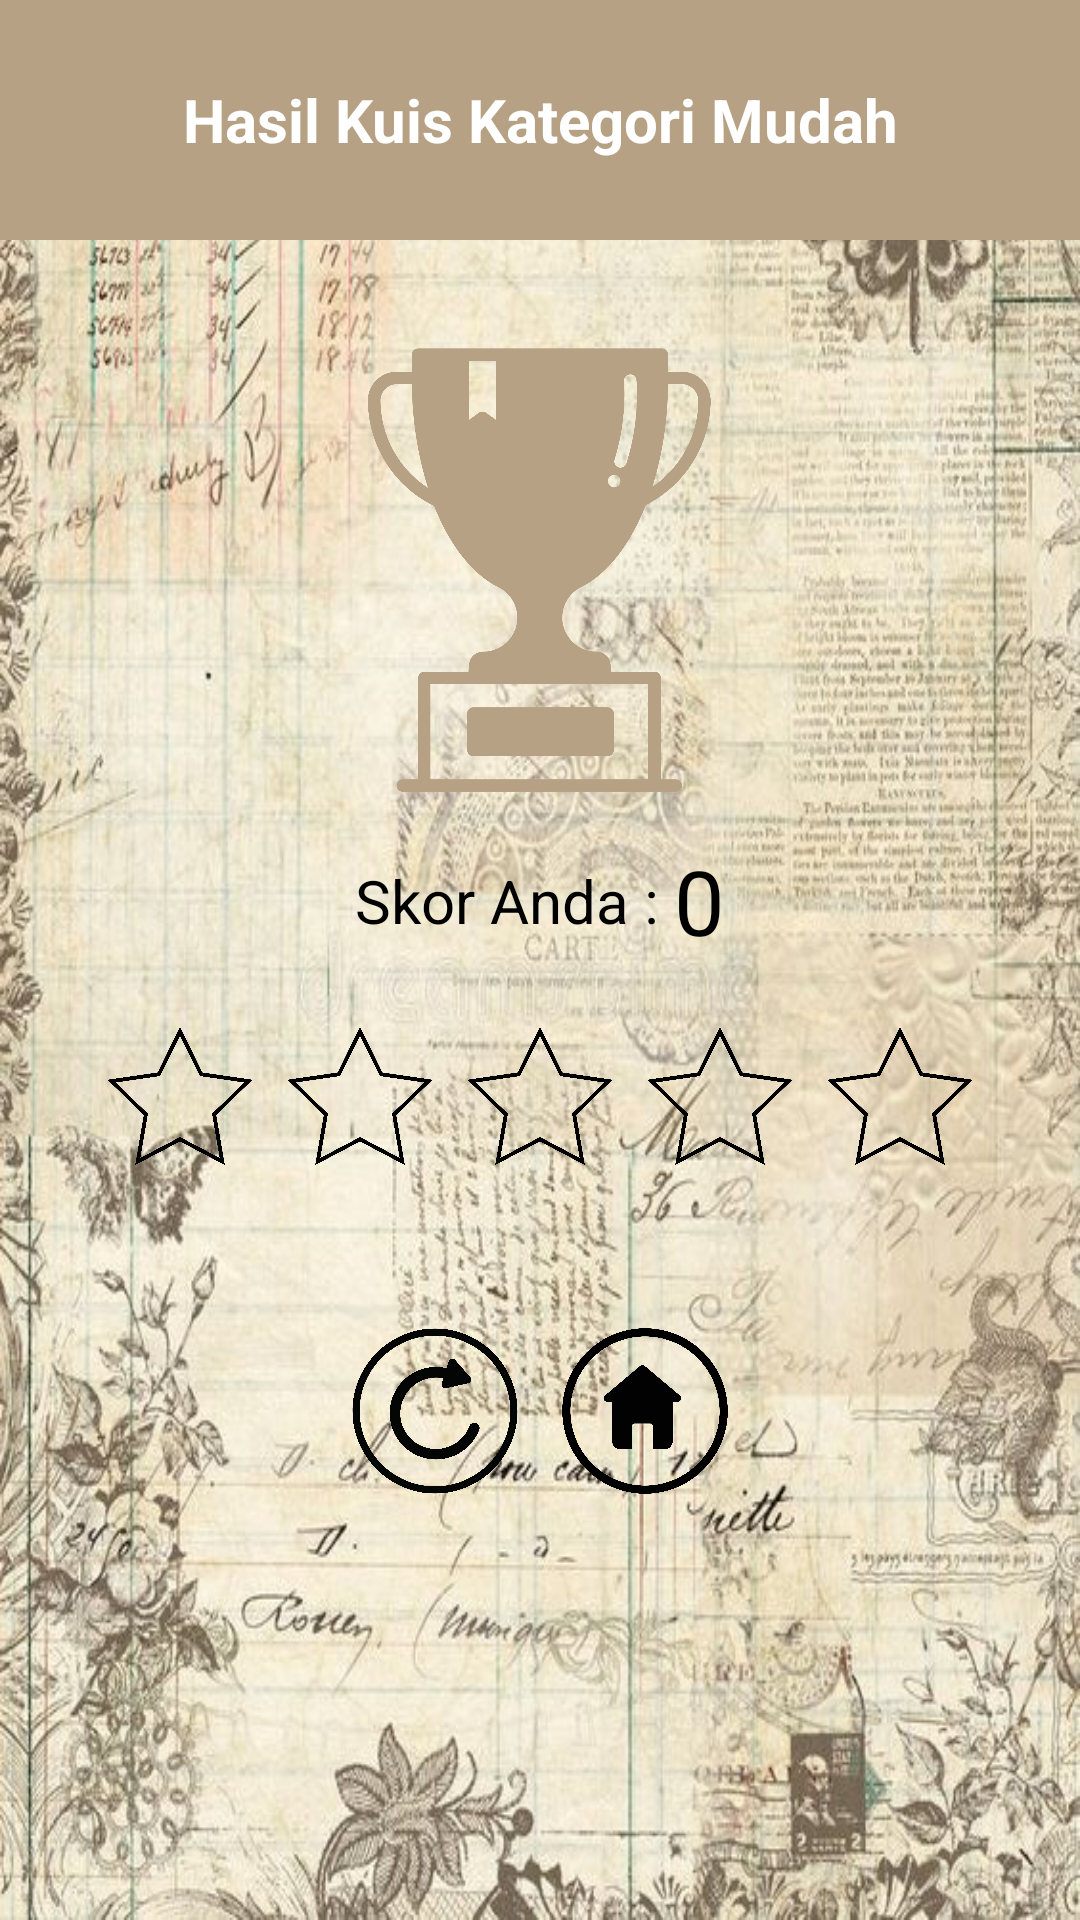

Point at icon controls on the screen. Image size 1080x1920, points as [x,y].
replay: [435,1411]
star off: [179,1096], [718,1096], [899,1096], [360,1098], [540,1099]
